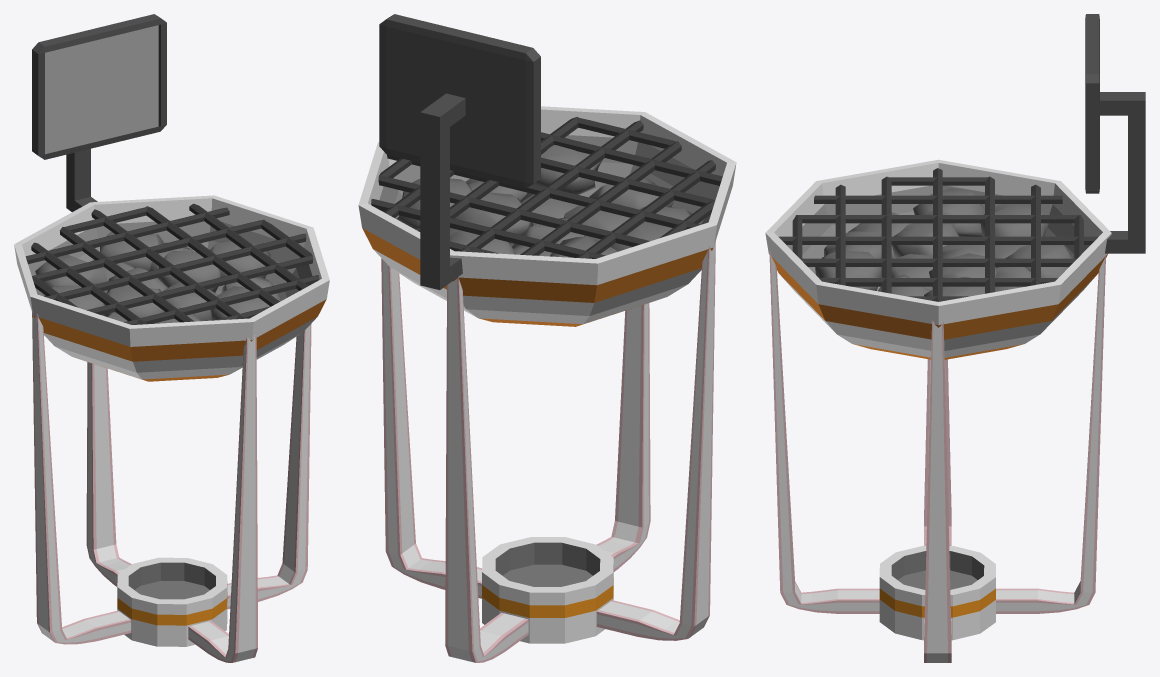
The model's file is Grill.fbx.
3 renders of one model, left to right at view 1: azimuth 30°, elevation 25°; view 2: azimuth 150°, elevation 25°; view 3: azimuth 270°, elevation 25°, orthographic. The views are drawn at different scales.
Visible parts, largest first — view 1: Cube.006; view 2: Cube.006; view 3: Cube.006.
Boxes of the visible parts, x1,y1,x2,y2 form: Cube.006: (14,14,329,662); Cube.006: (358,14,736,662); Cube.006: (765,14,1145,662).
Bounding box in the file's own units: 617 × 1124 × 678.
